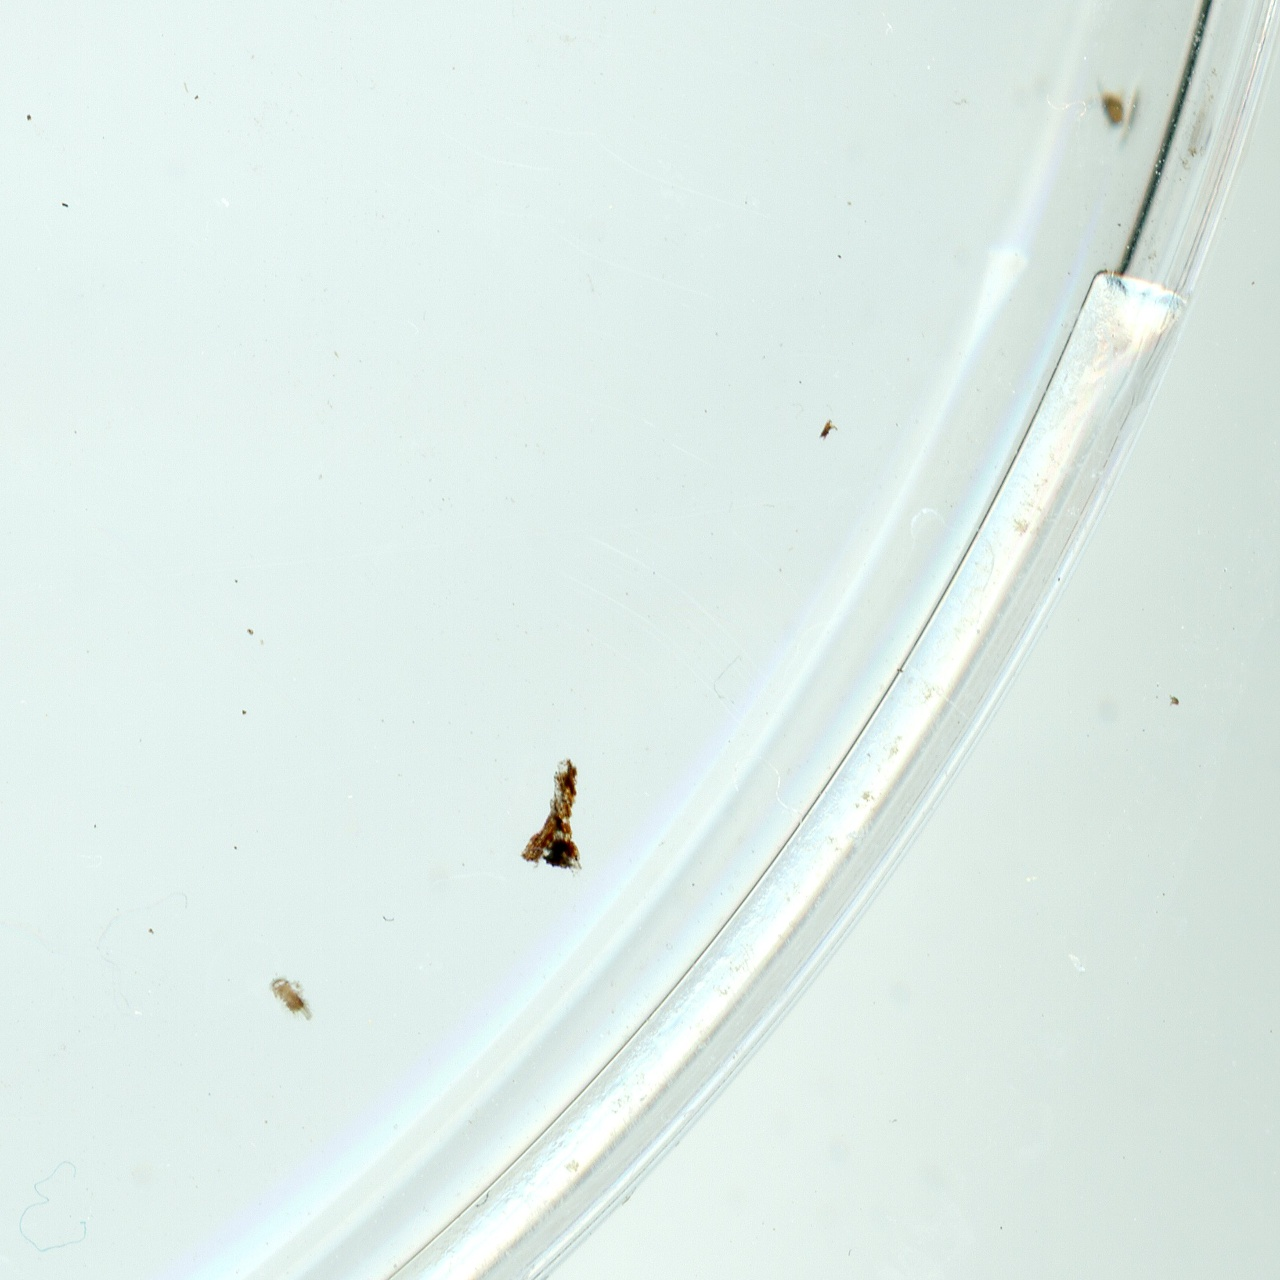arthropod: (264, 966, 324, 1033)
